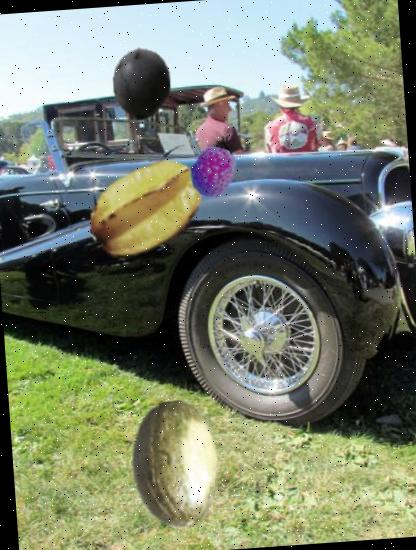Carambula: (81, 142, 214, 275)
Melon: (106, 396, 244, 534)
Plum: (102, 45, 181, 124)
Raspberry: (185, 144, 241, 200)
